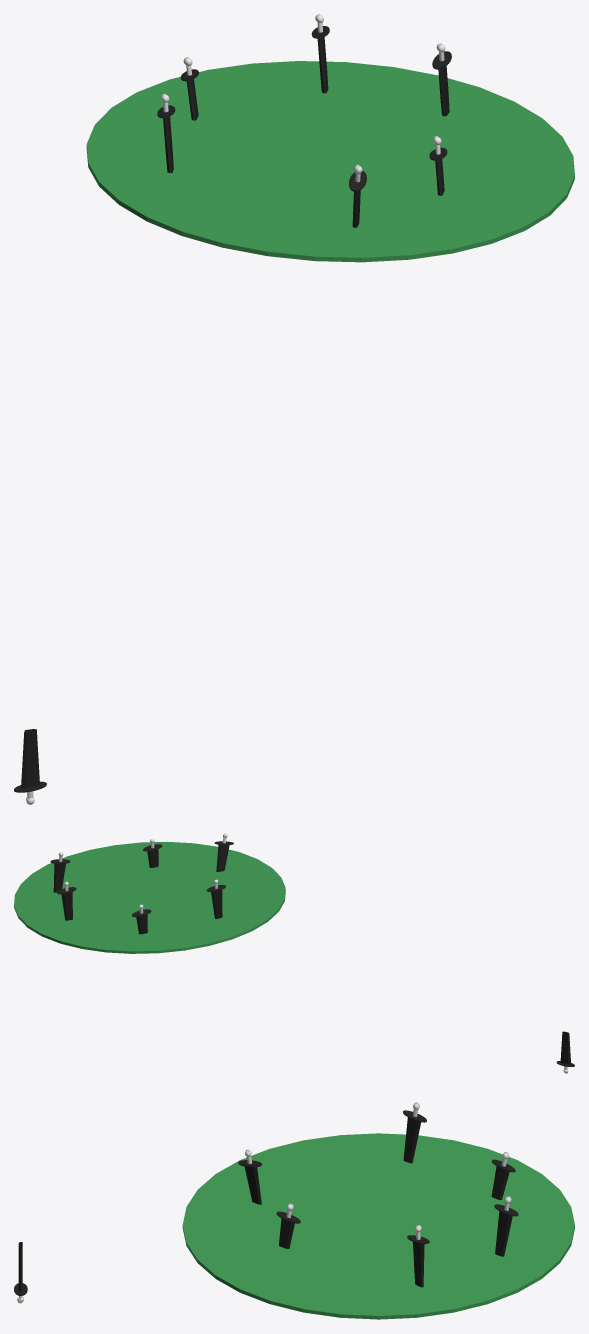
Rendered from Sword.glb.
3 views of the same model, one above another, from view 1: azimuth 30°, elevation 25°; view 2: azimuth 150°, elevation 25°; view 3: azimuth 270°, elevation 25° (orthographic). The views are drawn at different scales.
Visible parts, largest first — view 1: Cylinder.001, Cylinder; view 2: Cylinder.001, Cylinder.004, Cylinder.008, Cylinder.003, Cylinder, Cylinder.006, Cylinder.005, Cylinder.002; view 3: Cylinder.001, Cylinder.003, Cylinder.004, Cylinder.008, Cylinder.006, Cylinder.005, Cylinder.002, Cylinder.
Boxes of the visible parts, x1,y1,x2,y2 form: Cylinder.001: (86,61,574,262); Cylinder: (14,729,46,804); Cylinder.001: (14,841,285,953); Cylinder.004: (206,879,225,918); Cylinder.008: (50,852,70,892); Cylinder.003: (57,881,76,920); Cylinder: (556,1031,574,1073); Cylinder.006: (214,833,233,871); Cylinder.005: (132,904,151,934); Cylinder.002: (143,839,162,867); Cylinder.001: (182,1133,574,1319); Cylinder.003: (494,1196,518,1256); Cylinder.004: (403,1102,426,1163); Cylinder.008: (407,1225,429,1287); Cylinder.006: (238,1149,261,1204); Cylinder.005: (491,1152,515,1199); Cylinder.002: (276,1203,300,1248); Cylinder: (14,1242,27,1303).
Size of the model in its own units: 70.9 by 39.34 by 57.2.
